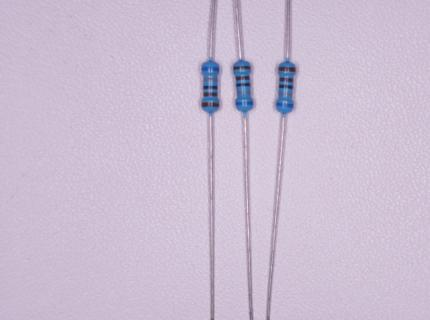Black band: (279, 85, 294, 90), (203, 86, 217, 90), (236, 83, 251, 86)
Blue band: (276, 103, 294, 108), (202, 67, 219, 71), (236, 101, 253, 105)
Brown band: (202, 102, 219, 107), (279, 67, 296, 72), (233, 66, 251, 70), (236, 76, 250, 81), (279, 78, 293, 82), (203, 93, 217, 96)
Grey band: (279, 92, 292, 97), (236, 91, 251, 95), (203, 78, 217, 82)
